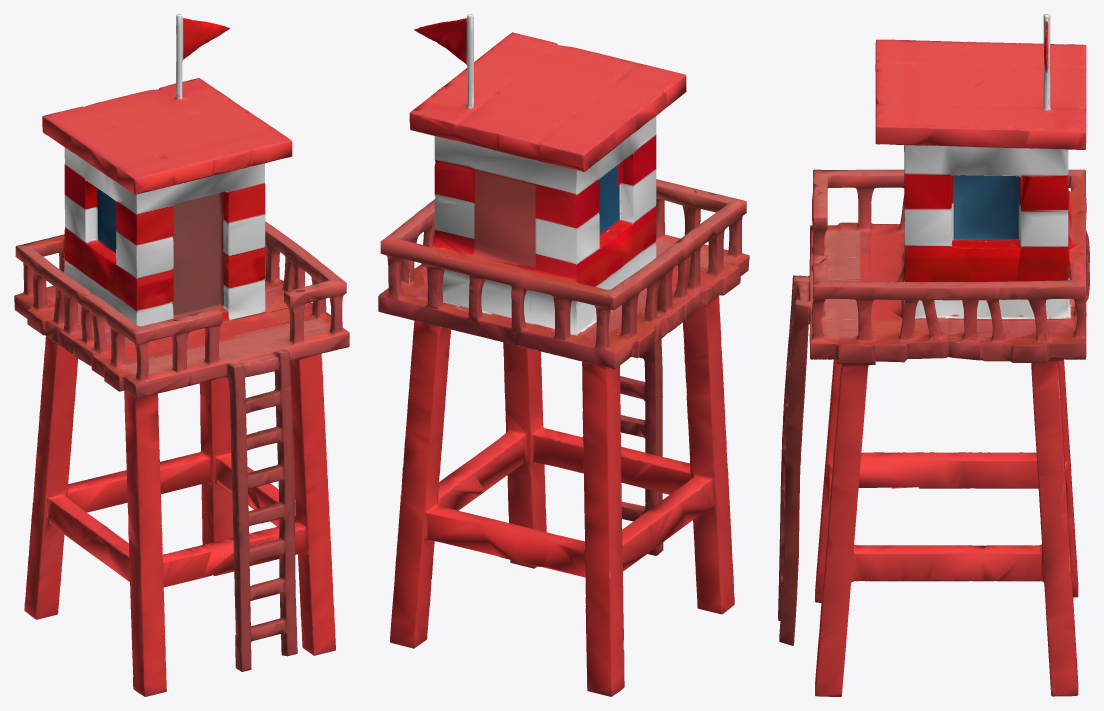
The picture shows the model from 3 angles, left to right: view 1: azimuth 30°, elevation 25°; view 2: azimuth 150°, elevation 25°; view 3: azimuth 270°, elevation 25°; orthographic projection. The views are drawn at different scales.
Parts seen in each view (by area): view 1: Mesh_0; view 2: Mesh_0; view 3: Mesh_0.
Part boxes in pixels (<box>): Mesh_0: <box>14,14,349,696</box>; Mesh_0: <box>378,14,749,696</box>; Mesh_0: <box>778,14,1089,696</box>.
Size of the model in its own units: 0.7699 by 1.9 by 0.8235.
1 material, 1 textured.
